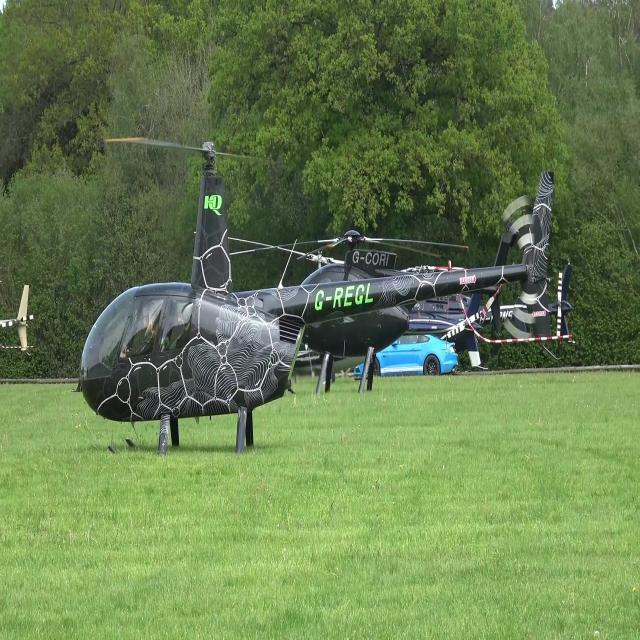CIV_HELO: (76, 140, 556, 469)
